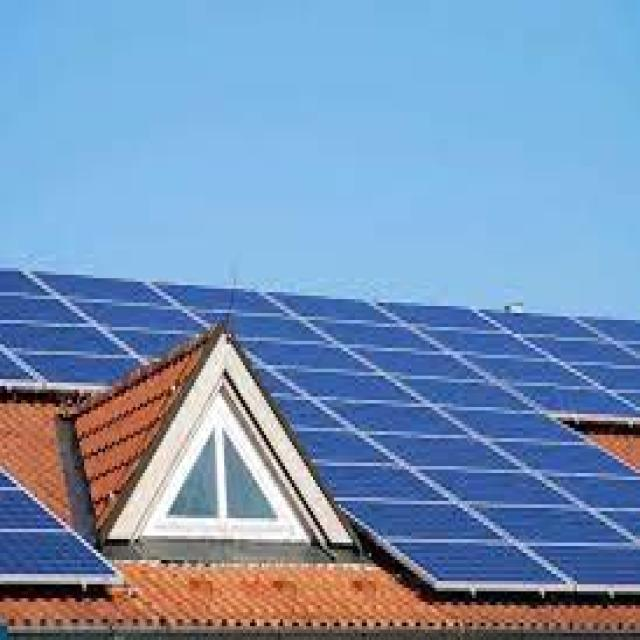clean-solar-panel: (1, 272, 640, 587)
